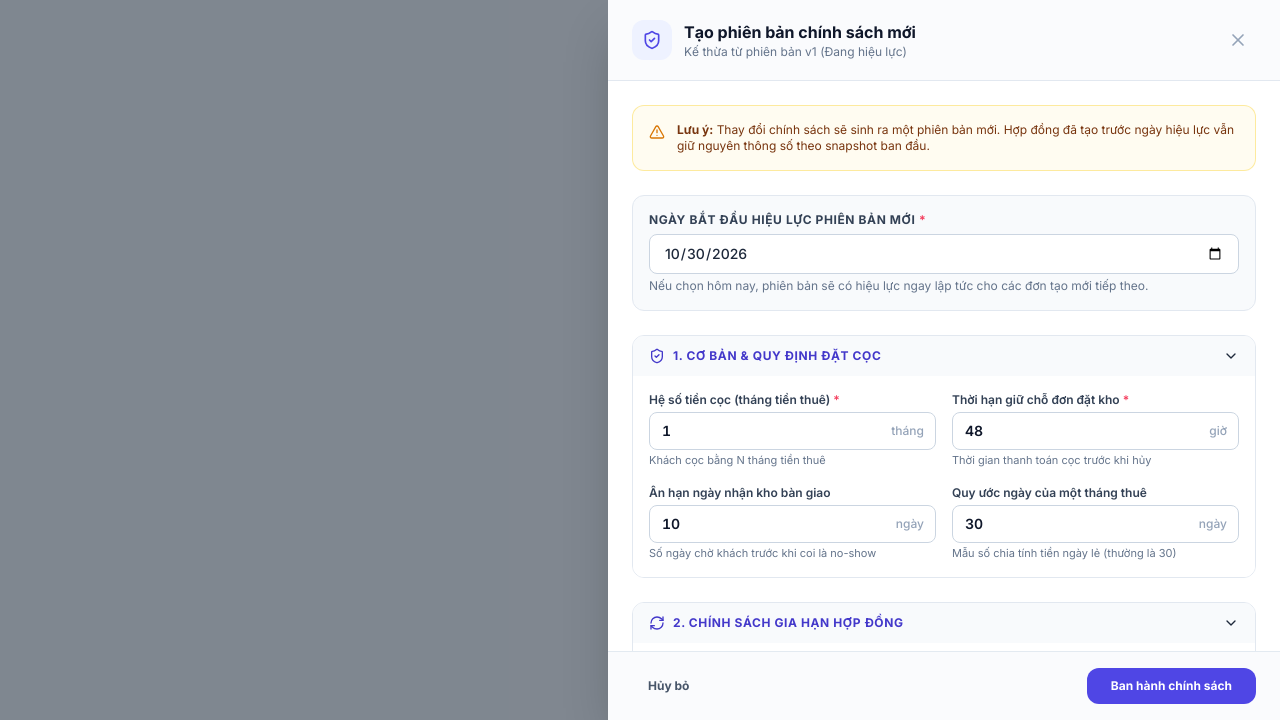
PolicyDrawer › validates confirmation checkbox before submitting
The image size is (1280, 720).
Click the button "Ban hành chính sách".
click(1171, 686)  # box top-left (1087, 668), bottom-right (1256, 704)
(page scrolled)
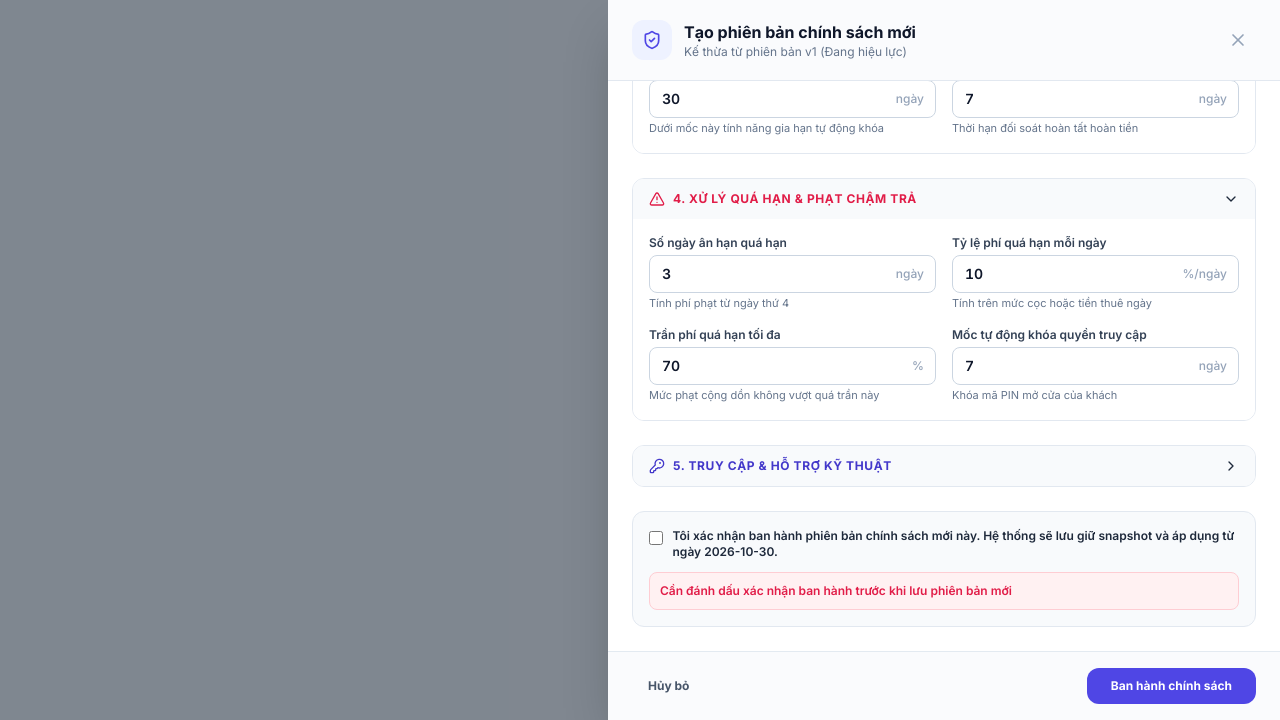
Check: the text "Cần đánh dấu xác nhận ban hành trước khi lưu phiên bản mới" is shown, box top-left (649, 572), bottom-right (1239, 610)
